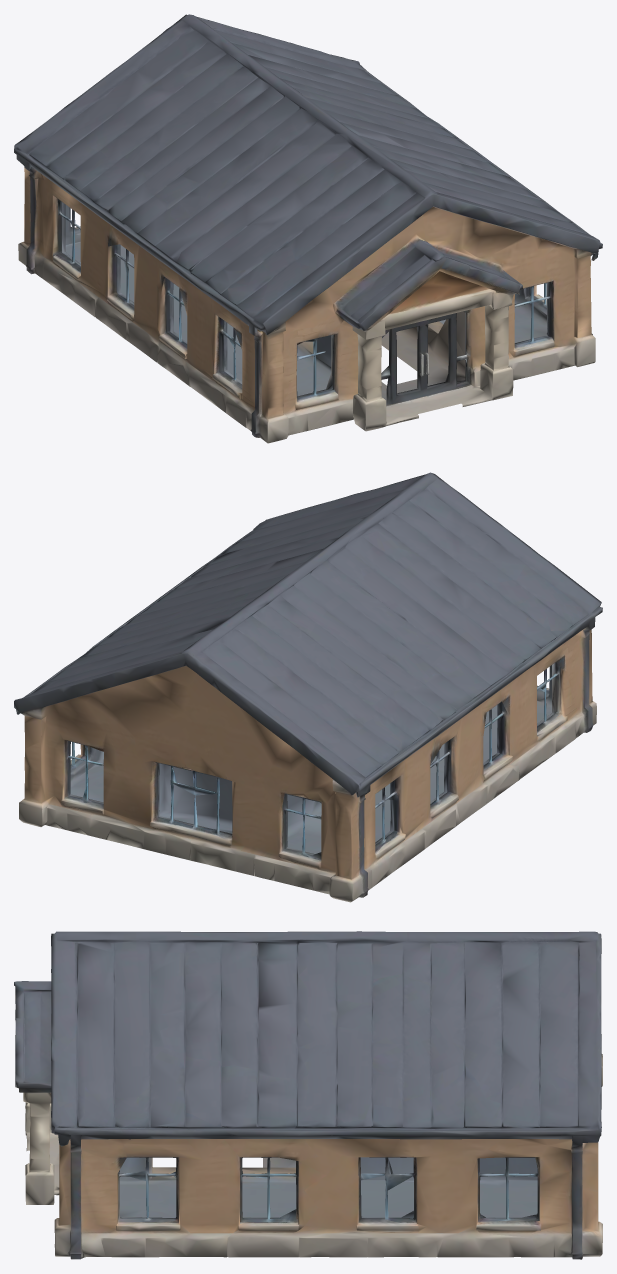
Rendered from hall.glb.
3 views of the same model, one above another, from view 1: azimuth 30°, elevation 25°; view 2: azimuth 150°, elevation 25°; view 3: azimuth 270°, elevation 25° (orthographic). The views are drawn at different scales.
Parts seen in each view (by area): view 1: tripo_node_8a86366b-82cf-4a8e-947a-b0afd6d51d5a; view 2: tripo_node_8a86366b-82cf-4a8e-947a-b0afd6d51d5a; view 3: tripo_node_8a86366b-82cf-4a8e-947a-b0afd6d51d5a.
Part boxes in pixels (x1=…): tripo_node_8a86366b-82cf-4a8e-947a-b0afd6d51d5a: x1=14, y1=14, x2=602, y2=443; tripo_node_8a86366b-82cf-4a8e-947a-b0afd6d51d5a: x1=14, y1=472, x2=602, y2=902; tripo_node_8a86366b-82cf-4a8e-947a-b0afd6d51d5a: x1=14, y1=931, x2=602, y2=1259.
Size of the model in its own units: 0.7553 by 0.4424 by 0.9999.
Materials: 1 (1 with a texture image).
